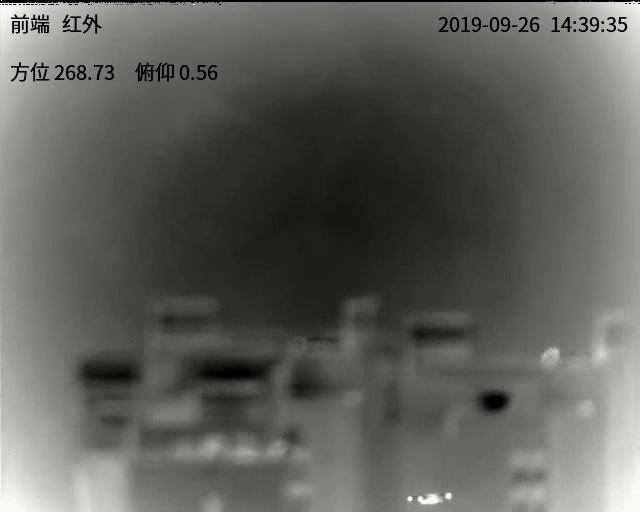DRONE: (406, 491, 454, 506)
